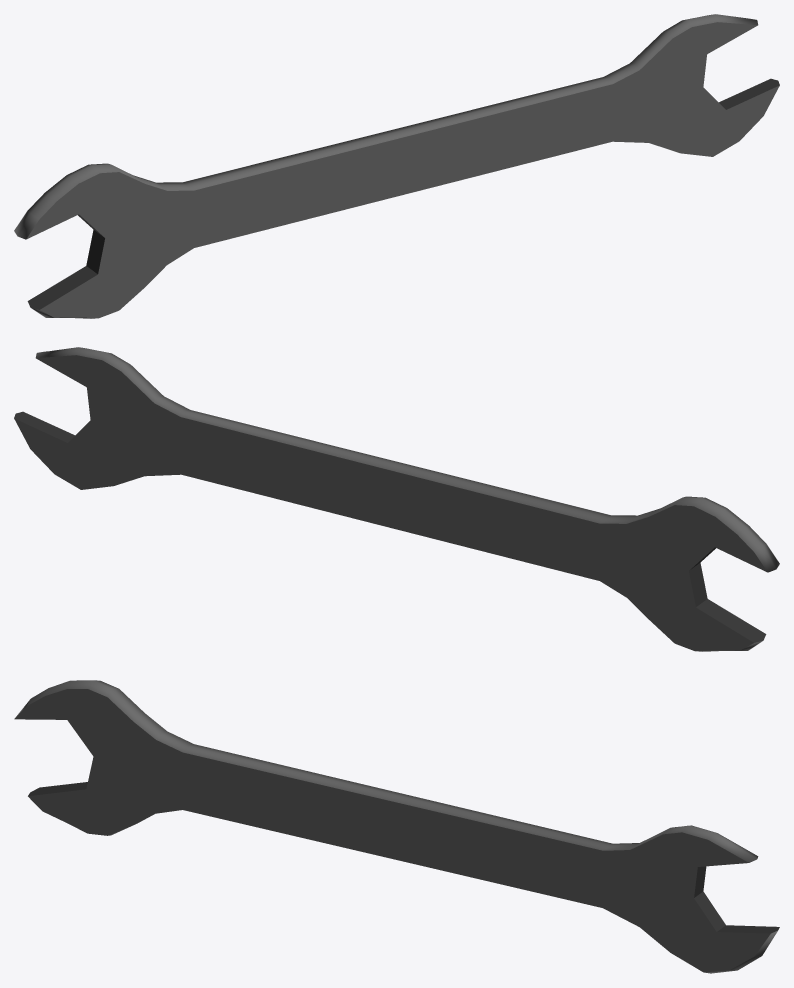
Rendered from Wrench.fbx.
The picture shows the model from 3 angles, top to bottom: view 1: azimuth 30°, elevation 25°; view 2: azimuth 150°, elevation 25°; view 3: azimuth 330°, elevation 25°; orthographic projection.
Parts seen in each view (by area): view 1: Cube; view 2: Cube; view 3: Cube.
Part boxes in pixels (x1,y1,x2,y2): Cube: (14, 14, 779, 318); Cube: (14, 347, 779, 651); Cube: (14, 680, 779, 973).
Bounding box in the file's own units: 750 × 145 × 20.6.
